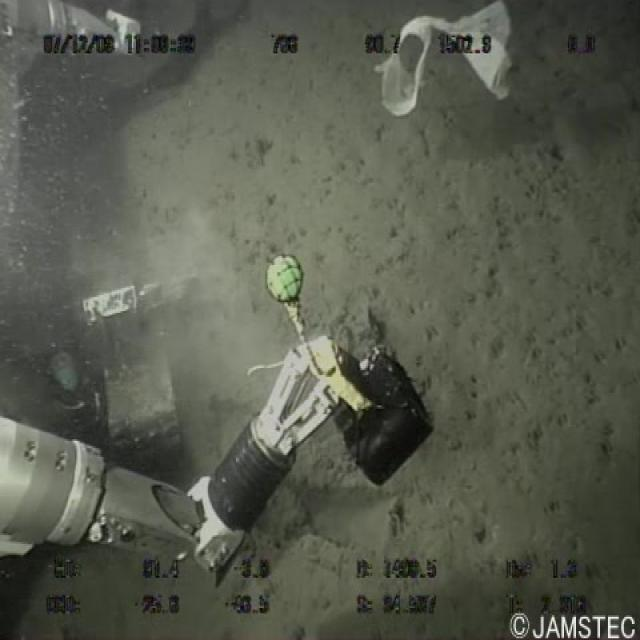plastic: (367, 0, 522, 119)
